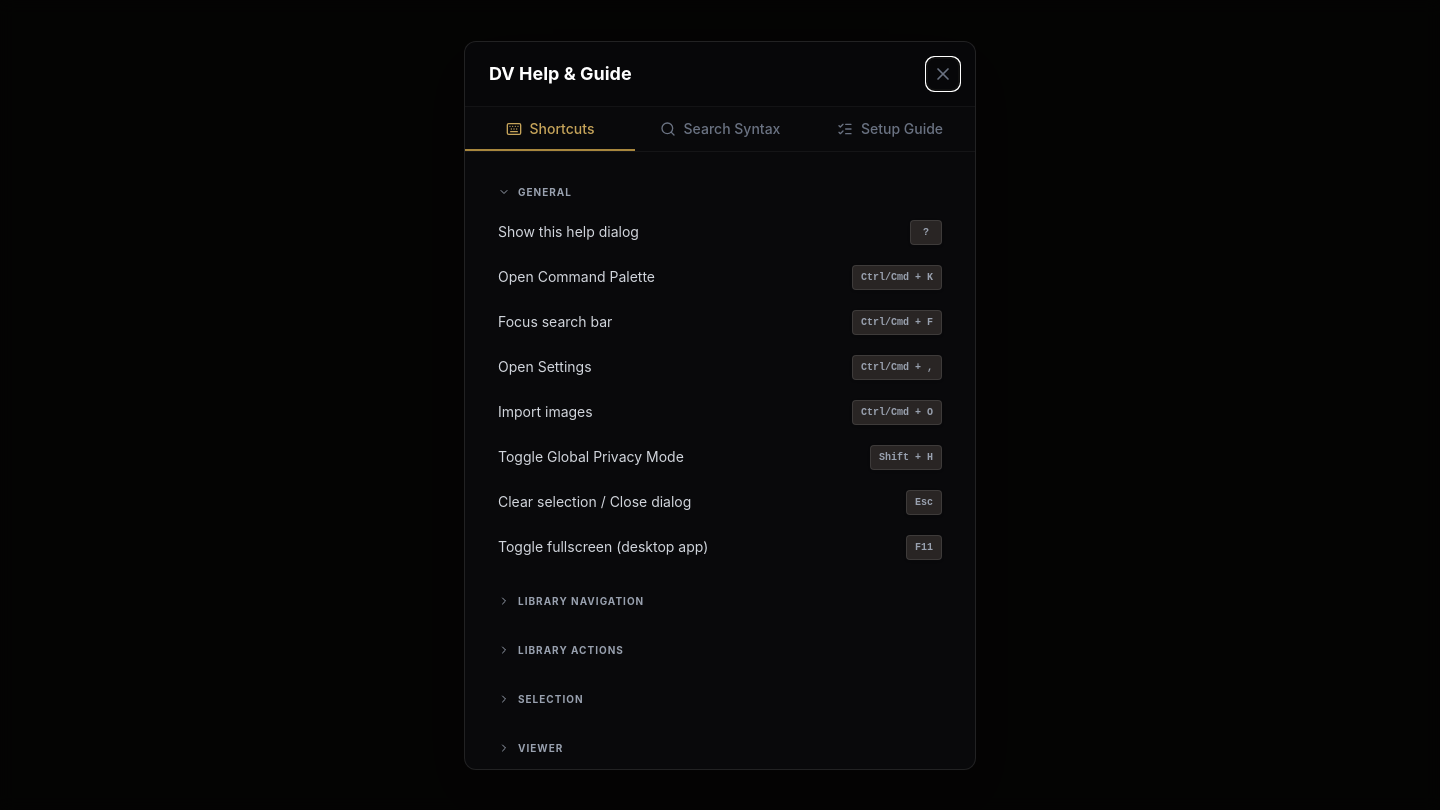
Test case: ShortcutsModal › documents system, viewer, and slideshow shortcuts
Expected: the text "Open Settings" is shown, [498,357,592,377]
Expected: the text "Import images" is shown, [498,402,593,422]
Click the button "Viewer".
click(541, 748)  # box [490,732,950,764]
(page scrolled)
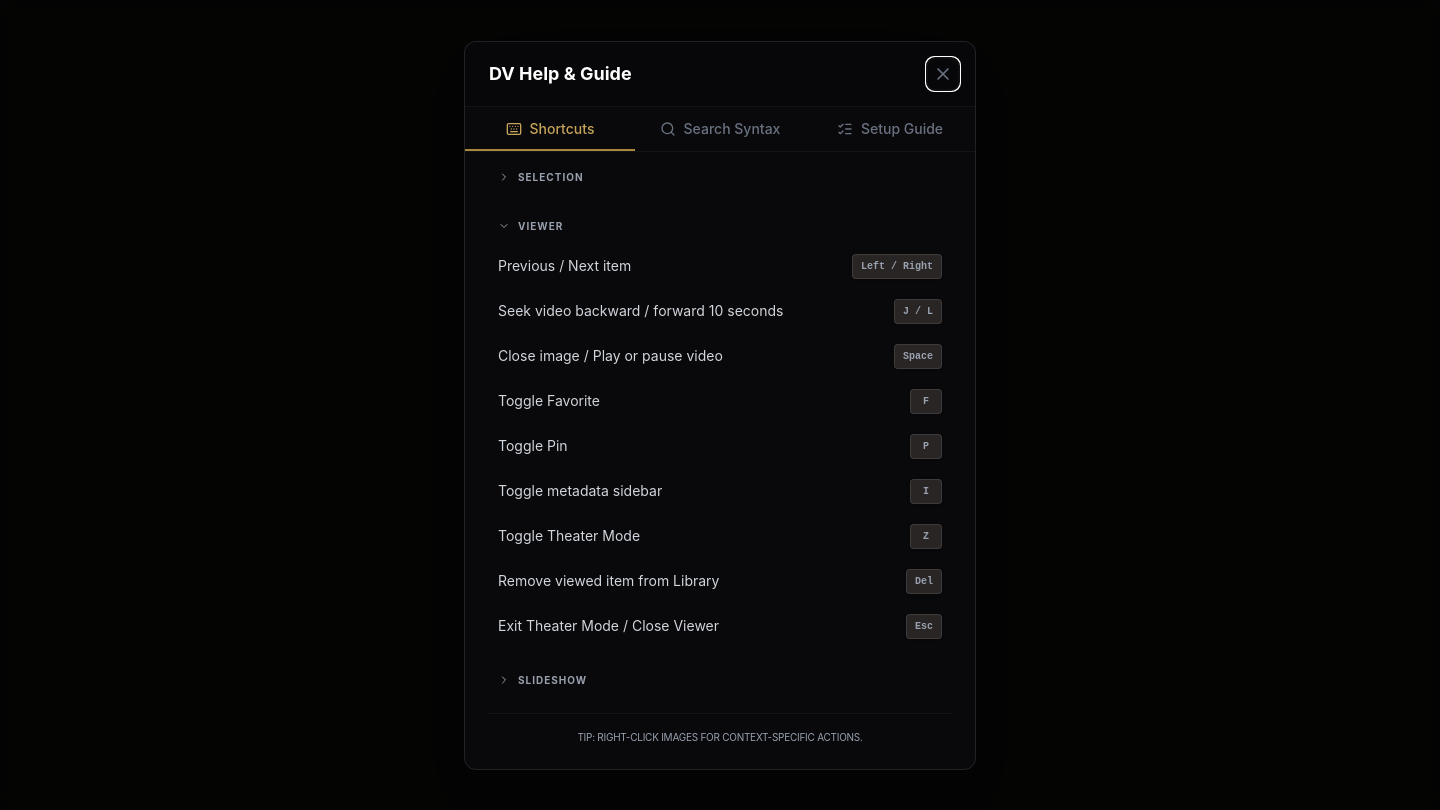
Now the text "Toggle metadata sidebar" is shown, box [498,481,662,501]
Click the button "Slideshow".
click(553, 680)  # box [490,664,950,696]
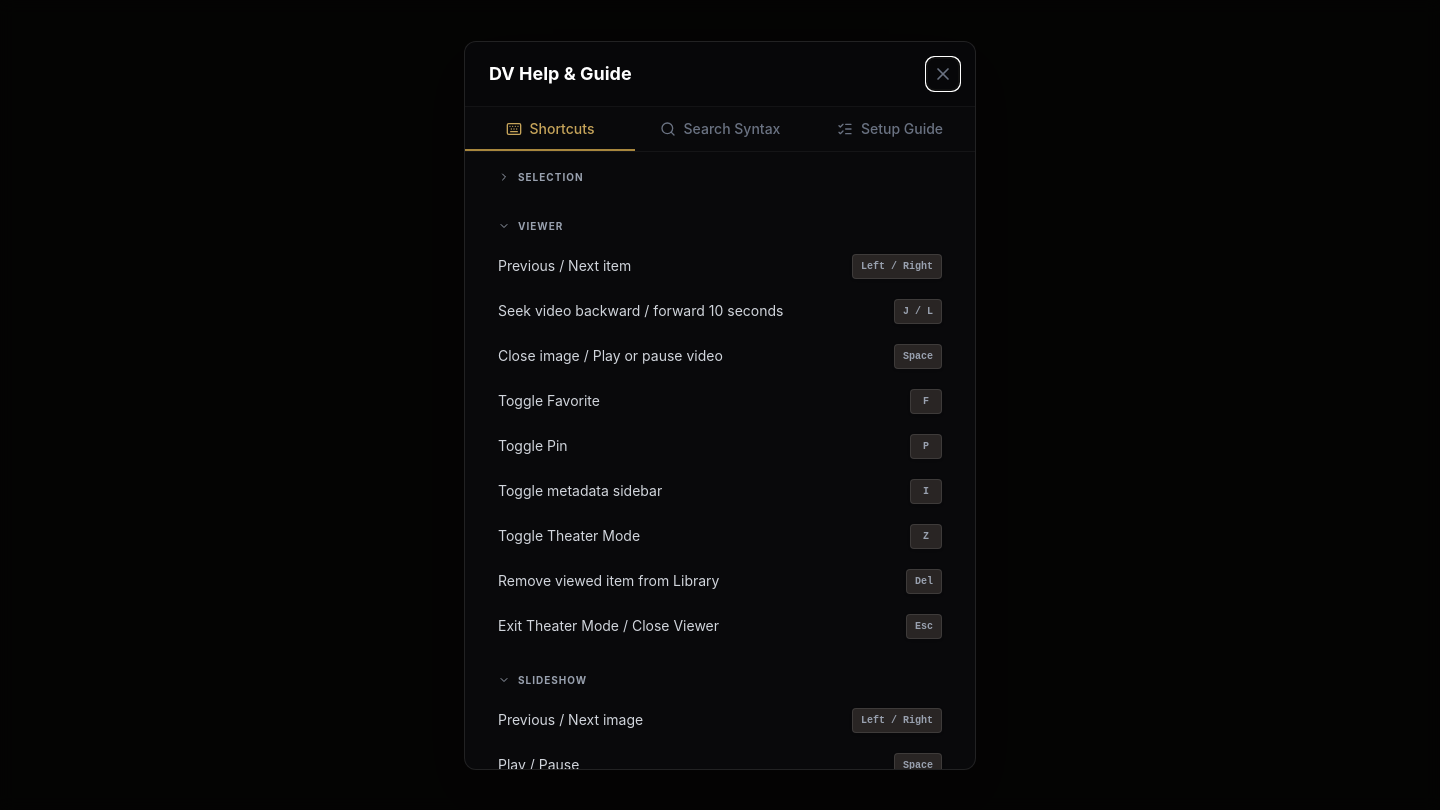
Now the text "Play / Pause" is shown, box [498,755,579,768]
